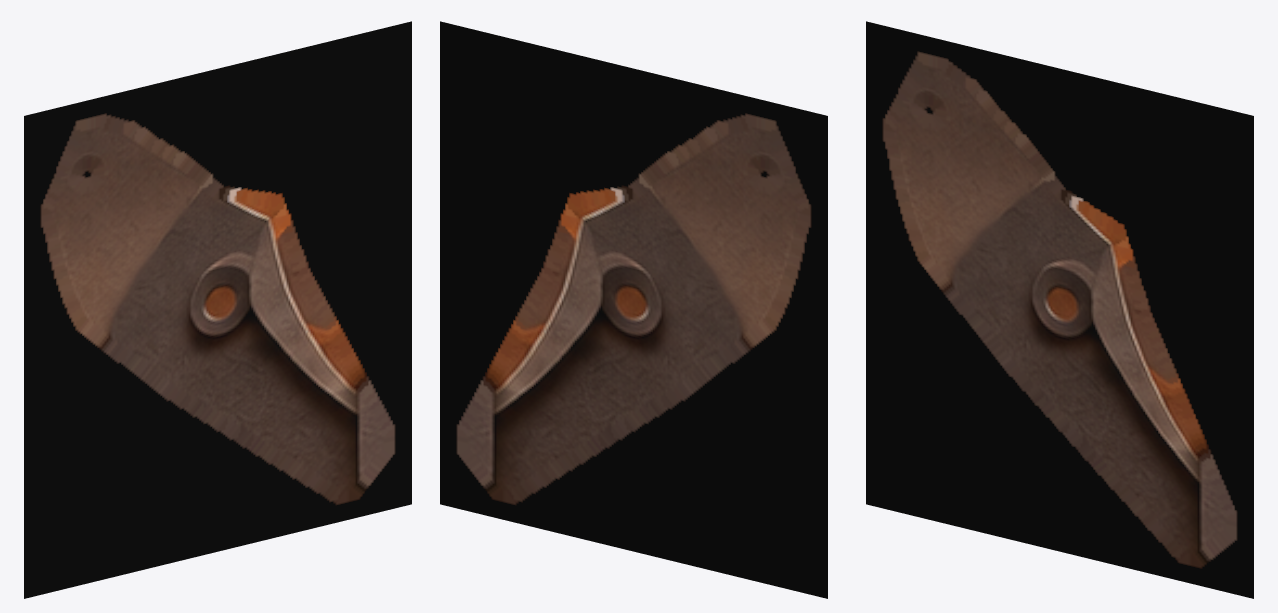
Rendered from BodyLinkUpper.glb.
3 renders of one model, left to right at view 1: azimuth 30°, elevation 25°; view 2: azimuth 150°, elevation 25°; view 3: azimuth 330°, elevation 25°, orthographic.
Parts seen in each view (by area): view 1: PaperVolume; view 2: PaperVolume; view 3: PaperVolume.
Boxes of the visible parts, bbox=[...] form: PaperVolume: bbox=[24, 21, 411, 598]; PaperVolume: bbox=[440, 21, 827, 598]; PaperVolume: bbox=[866, 21, 1253, 598].
Size of the model in its own units: 1.79 by 2.13 by 0.08.
Materials: 3 (2 with a texture image).
